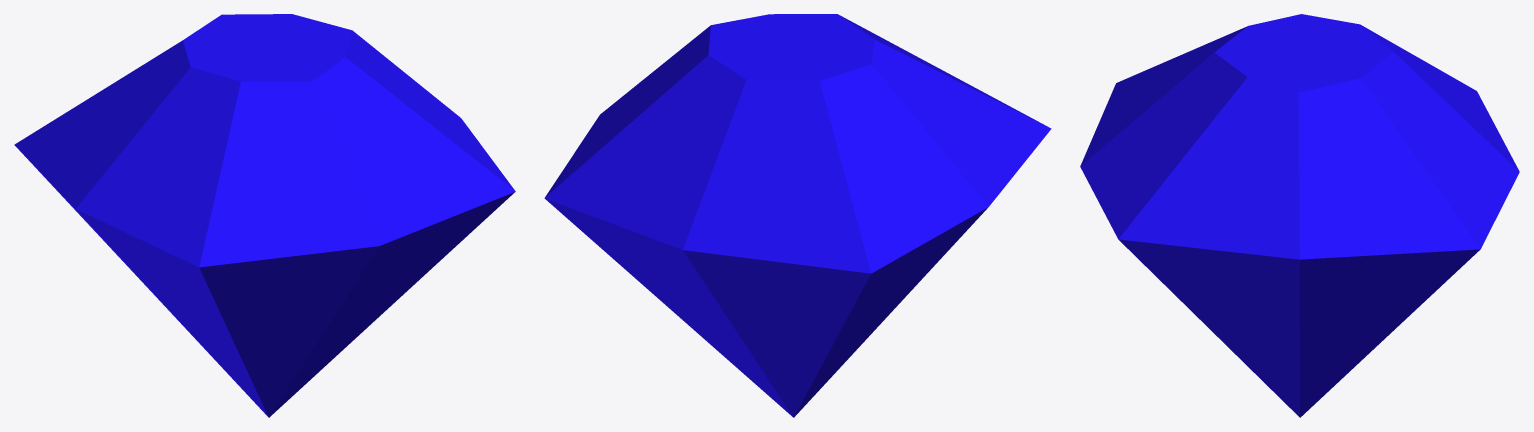
File: alm.gltf
3 renders of one model, left to right at view 1: azimuth 30°, elevation 25°; view 2: azimuth 150°, elevation 25°; view 3: azimuth 270°, elevation 25°, orthographic.
Visible parts, largest first — view 1: Cube; view 2: Cube; view 3: Cube.
Boxes of the visible parts, <box> form: Cube: <box>14,14,515,417</box>; Cube: <box>544,14,1051,417</box>; Cube: <box>1080,14,1519,417</box>.
Bounding box in the file's own units: 2 × 1.84 × 2.
